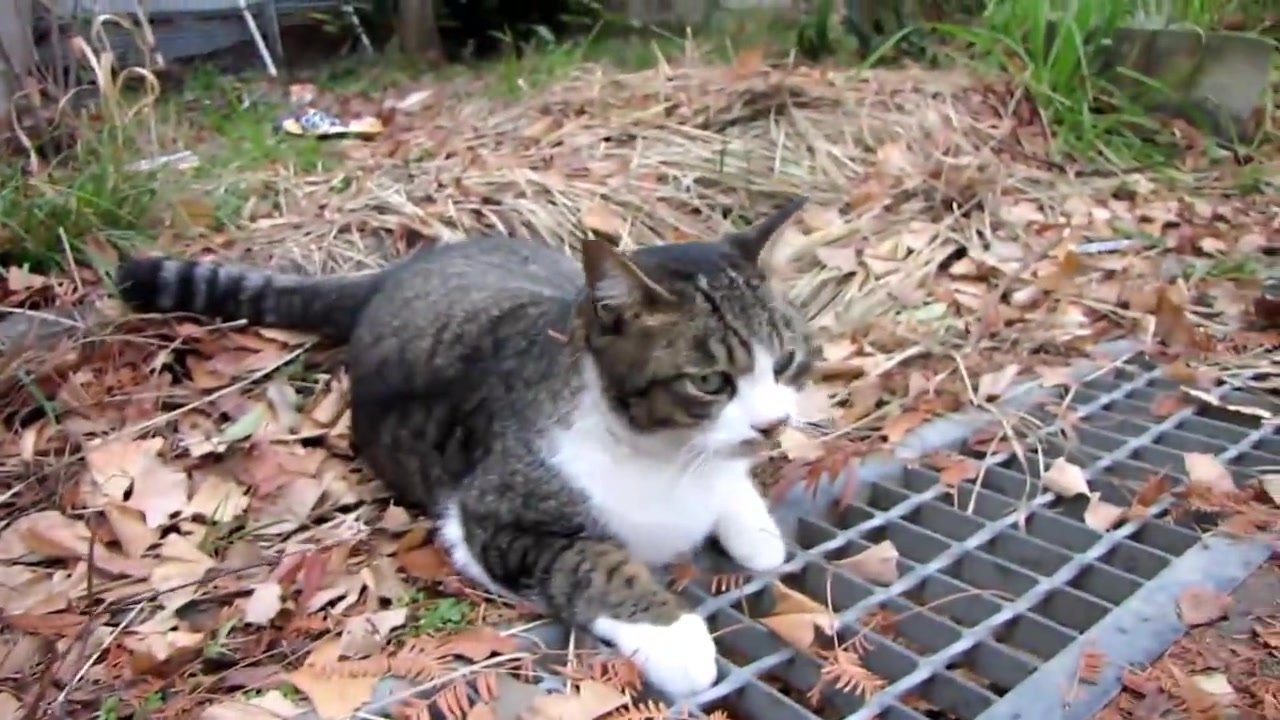cat: (107, 198, 818, 701)
